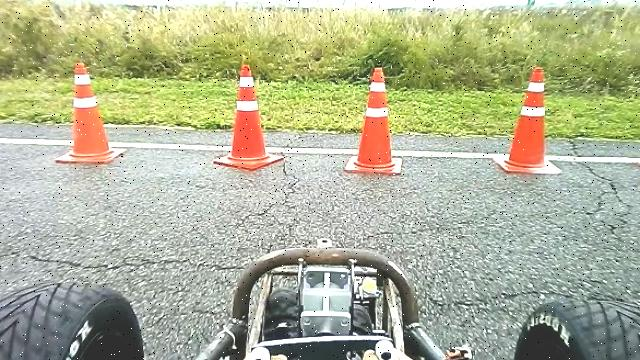red cone: (492, 64, 564, 174), (213, 62, 285, 169), (54, 61, 126, 164), (344, 66, 403, 174)
